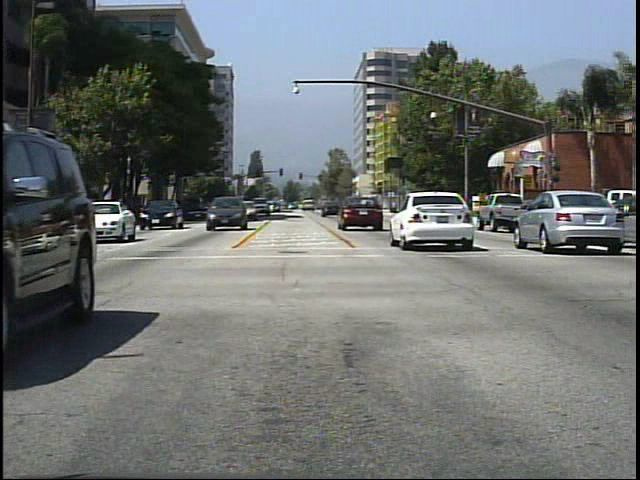person: (495, 189, 513, 224), (534, 193, 552, 228)
